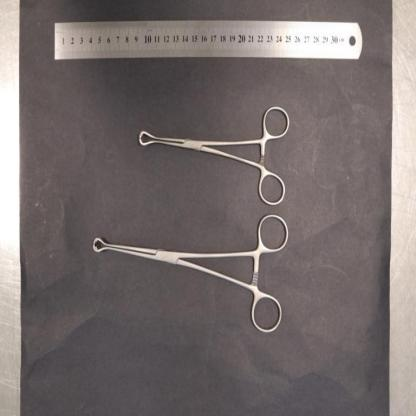8 Babcock Tissue Forceps: (92, 214, 290, 334)
Babcock Tissue Forceps: (138, 104, 290, 206)
